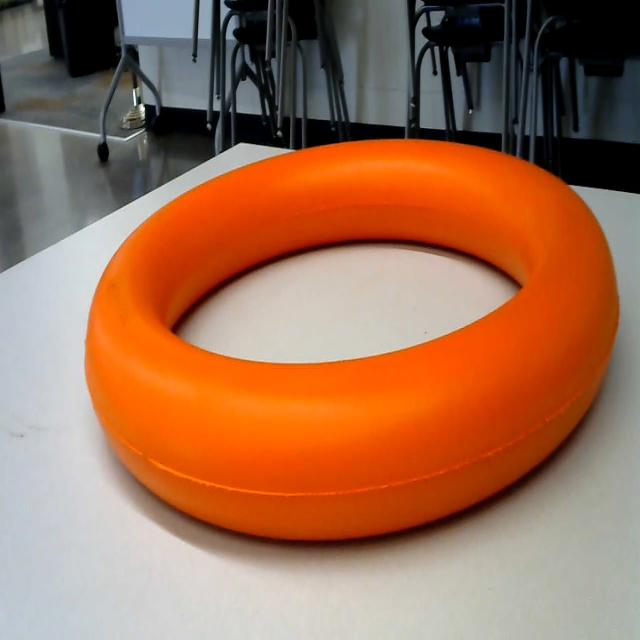note: (77, 127, 628, 562)
